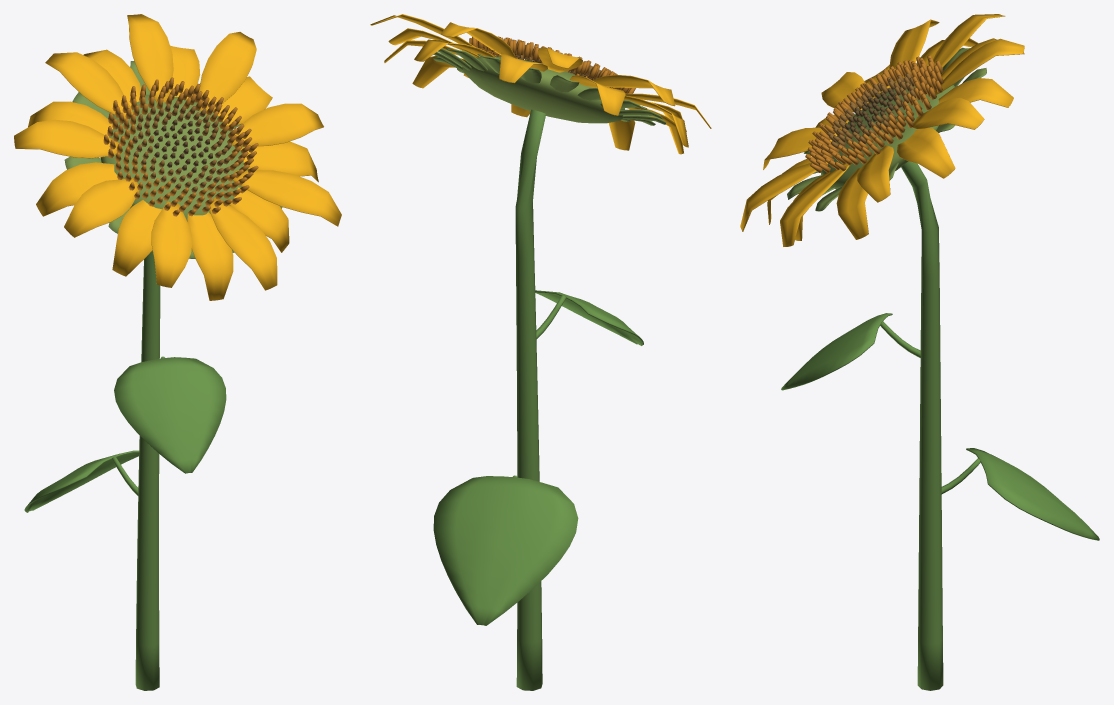
The model's file is flower-helianthus-low.glb.
3 renders of one model, left to right at view 1: azimuth 30°, elevation 25°; view 2: azimuth 150°, elevation 25°; view 3: azimuth 270°, elevation 25°, orthographic. The views are drawn at different scales.
Visible parts, largest first — view 1: hero_rays, leaves, head_back_full, stem, hero_disc_open, hero_disc_center; view 2: leaves, stem, hero_rays, head_back_full, hero_disc_open; view 3: hero_rays, stem, leaves, hero_disc_open, head_back_full, hero_disc_center.
Boxes of the visible parts, bbox=[...] form: hero_rays: bbox=[14, 14, 341, 300]; leaves: bbox=[24, 356, 226, 512]; head_back_full: bbox=[64, 61, 282, 258]; stem: bbox=[135, 251, 160, 690]; hero_disc_open: bbox=[103, 77, 258, 216]; hero_disc_center: bbox=[132, 101, 231, 192]; leaves: bbox=[433, 290, 643, 625]; stem: bbox=[515, 109, 545, 690]; hero_rays: bbox=[370, 14, 711, 154]; head_back_full: bbox=[433, 48, 666, 125]; hero_disc_open: bbox=[469, 36, 635, 93]; hero_rays: bbox=[740, 14, 1024, 246]; stem: bbox=[901, 161, 943, 690]; leaves: bbox=[781, 313, 1099, 540]; hero_disc_open: bbox=[805, 55, 943, 172]; head_back_full: bbox=[787, 47, 986, 211]; hero_disc_center: bbox=[827, 73, 915, 148].
Size of the model in its own units: 14.54 by 30.88 by 15.38.
